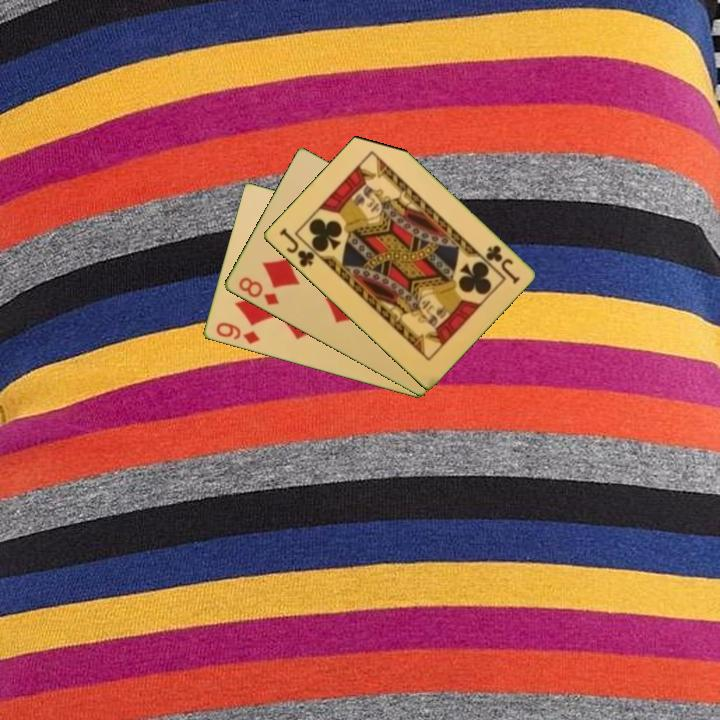8d: (234, 273, 282, 308)
9d: (212, 319, 262, 347)
Jc: (275, 224, 317, 270), (481, 241, 523, 287)
